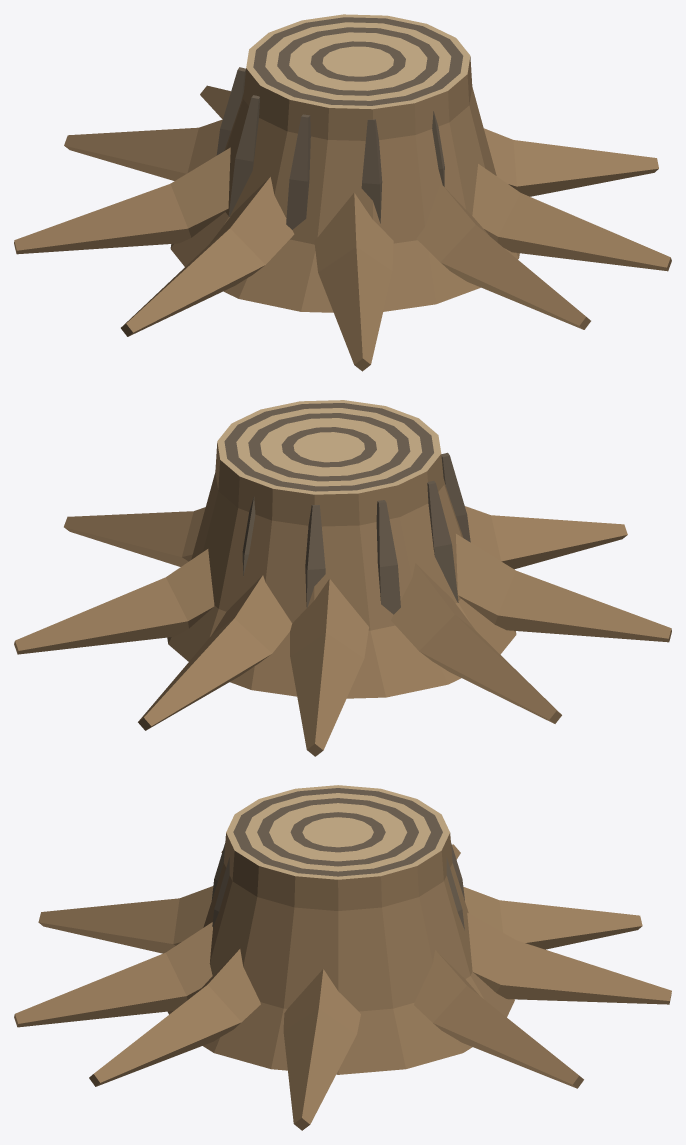
Rendered from stump_01.glb.
3 renders of one model, top to bottom at view 1: azimuth 30°, elevation 25°; view 2: azimuth 150°, elevation 25°; view 3: azimuth 270°, elevation 25°, orthographic.
Visible parts, largest first — view 1: Stump_800_01; view 2: Stump_800_01; view 3: Stump_800_01.
Part boxes in pixels (box(x1,y1,x2,y2)): Stump_800_01: box(14, 14, 671, 371); Stump_800_01: box(14, 400, 671, 756); Stump_800_01: box(14, 785, 671, 1130).
Bounding box in the file's own units: 2.73 × 0.8028 × 2.76.
